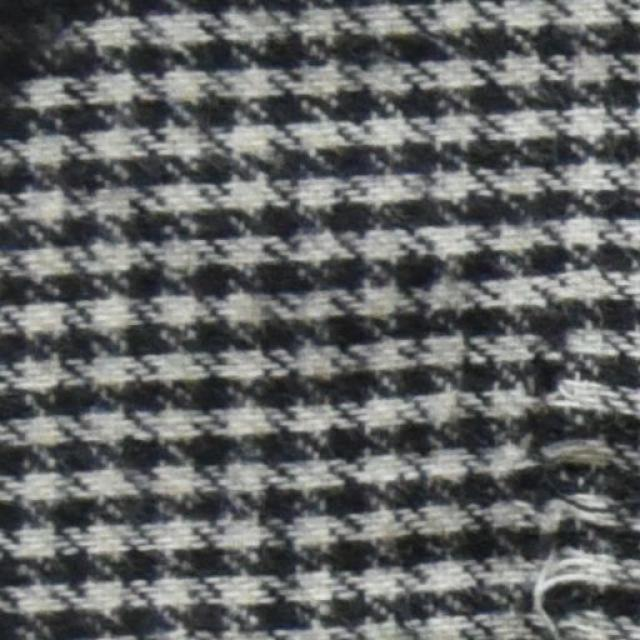Snag: (505, 280, 639, 639)
